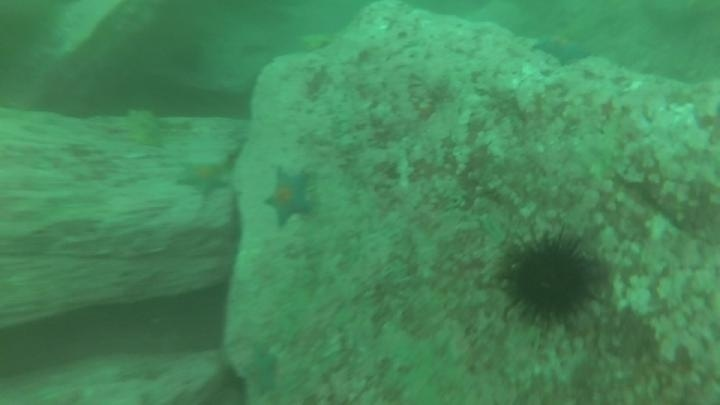echinus: (497, 227, 602, 330)
holothurian: (113, 106, 168, 150)
starfish: (260, 166, 317, 230), (237, 344, 285, 404), (174, 155, 234, 200), (531, 30, 592, 66)
